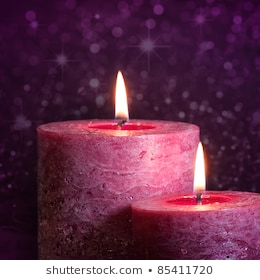Fire: (104, 63, 131, 124), (190, 141, 208, 196)
